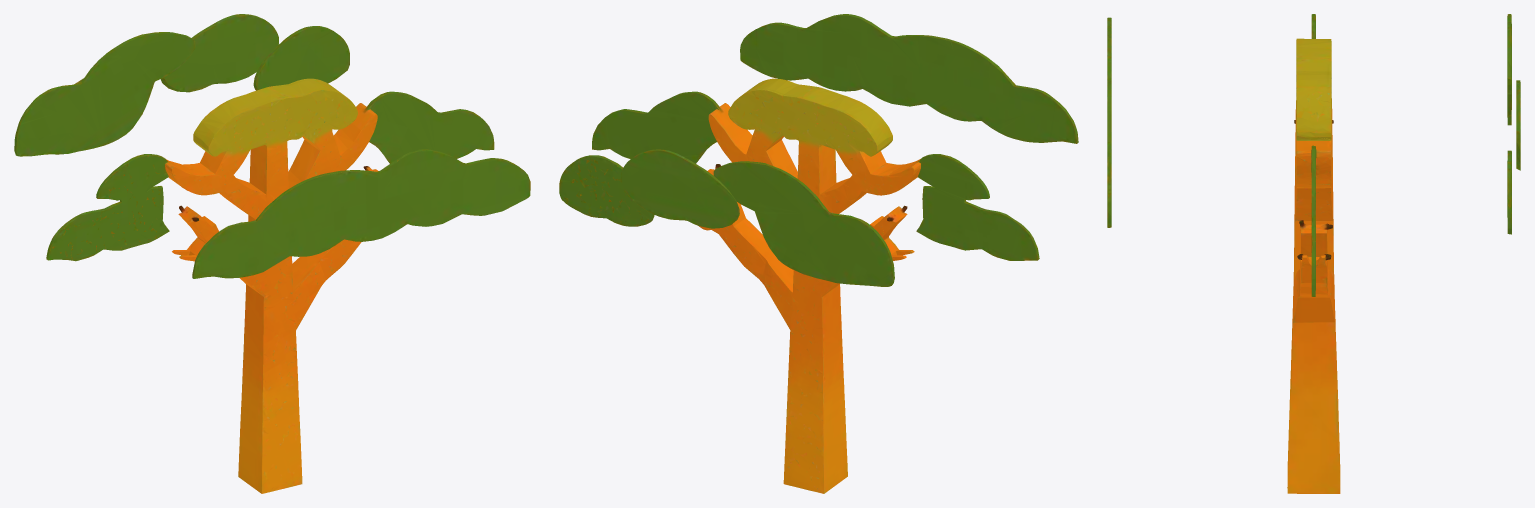
The model's file is pine-round.glb.
3 views of the same model, side by side, from view 1: azimuth 30°, elevation 25°; view 2: azimuth 150°, elevation 25°; view 3: azimuth 270°, elevation 25° (orthographic). The views are drawn at different scales.
Parts seen in each view (by area): view 1: geometry_0; view 2: geometry_0; view 3: geometry_0.
Boxes of the visible parts, x1=… form: geometry_0: x1=14, y1=14, x2=530, y2=493; geometry_0: x1=559, y1=14, x2=1078, y2=493; geometry_0: x1=1107, y1=14, x2=1520, y2=493.
Bounding box in the file's own units: 1 × 0.837 × 0.7259.
1 material, 1 textured.
